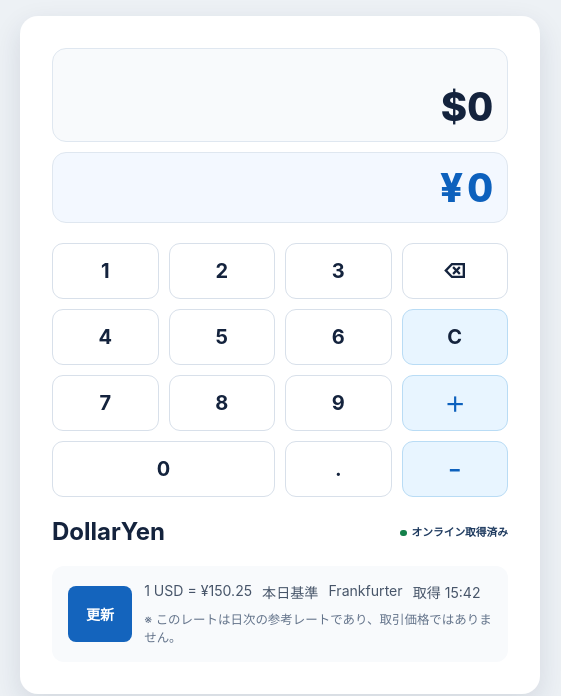
Test: subtracts using the keypad and converts the difference before equals
This screenshot has width=561, height=696.
Click the button "1" at (105, 271), box [52,243,158,299]
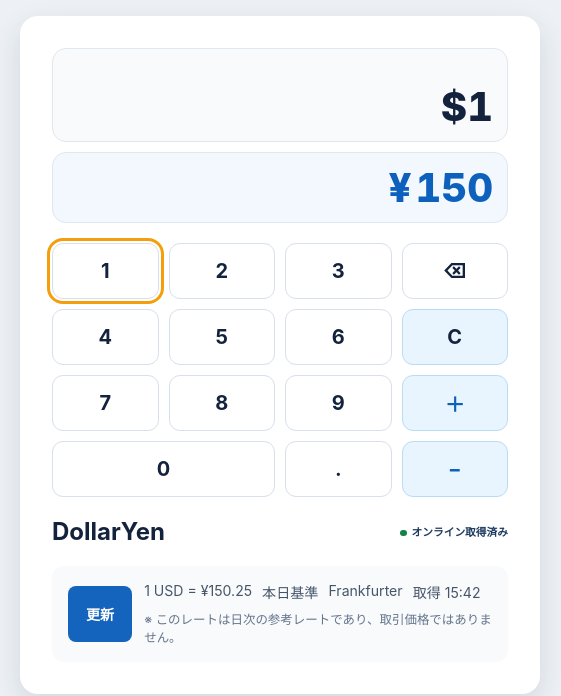
Click the button "0" at (164, 469), box [52,441,275,497]
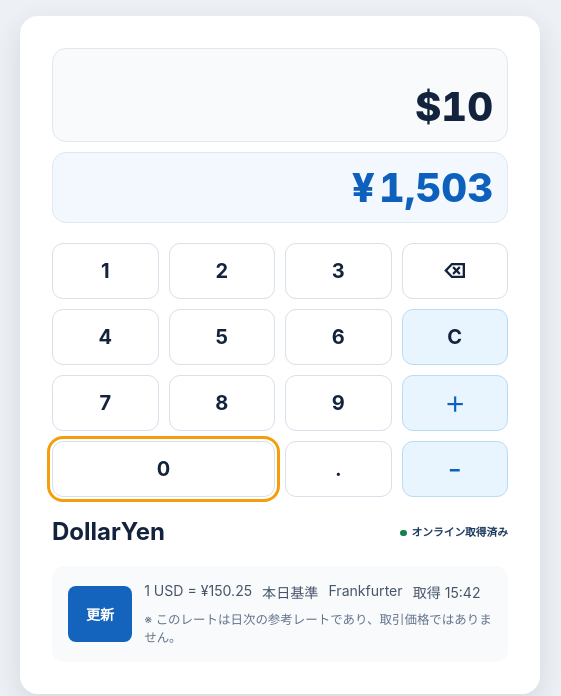
Click the button named "引く" at (455, 469), box [402,441,508,497]
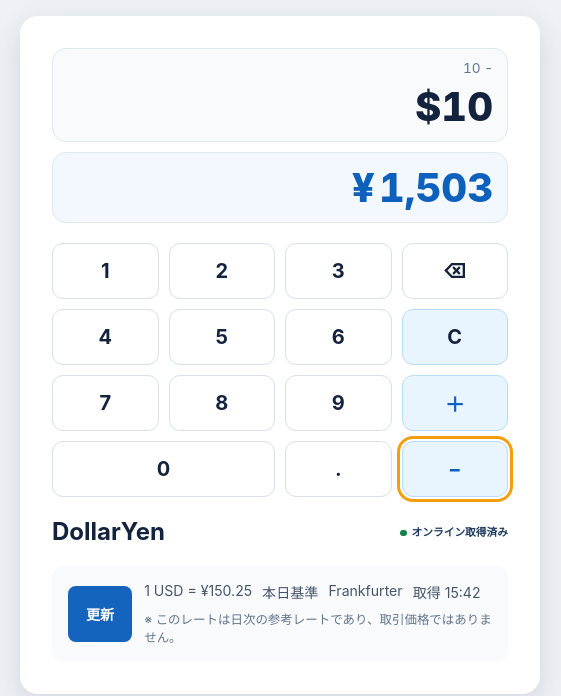
Click the button "3" at (338, 271), box [285,243,392,299]
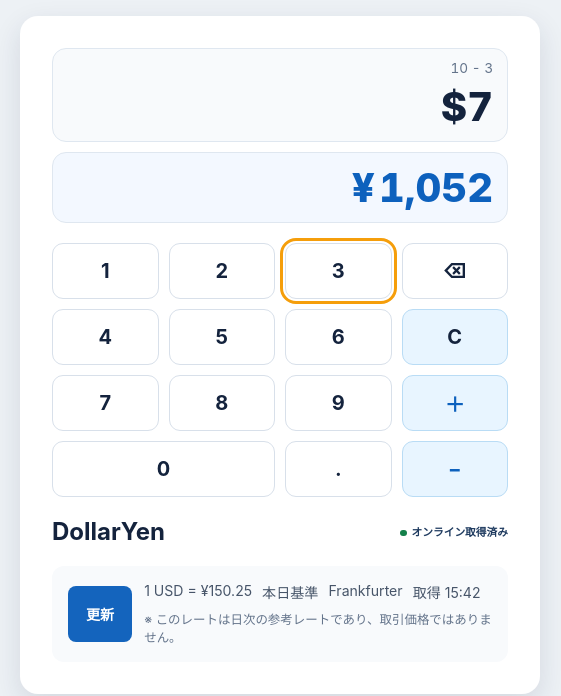
Expected: the text named "米ドル金額" reads "$7", [441,82,493,131]
Expected: the element named "日本円金額" reads "¥ 1,052", [352,163,493,212]
Expected: the text named "米ドルの計算式" reads "10 - 3", [450,60,493,76]
